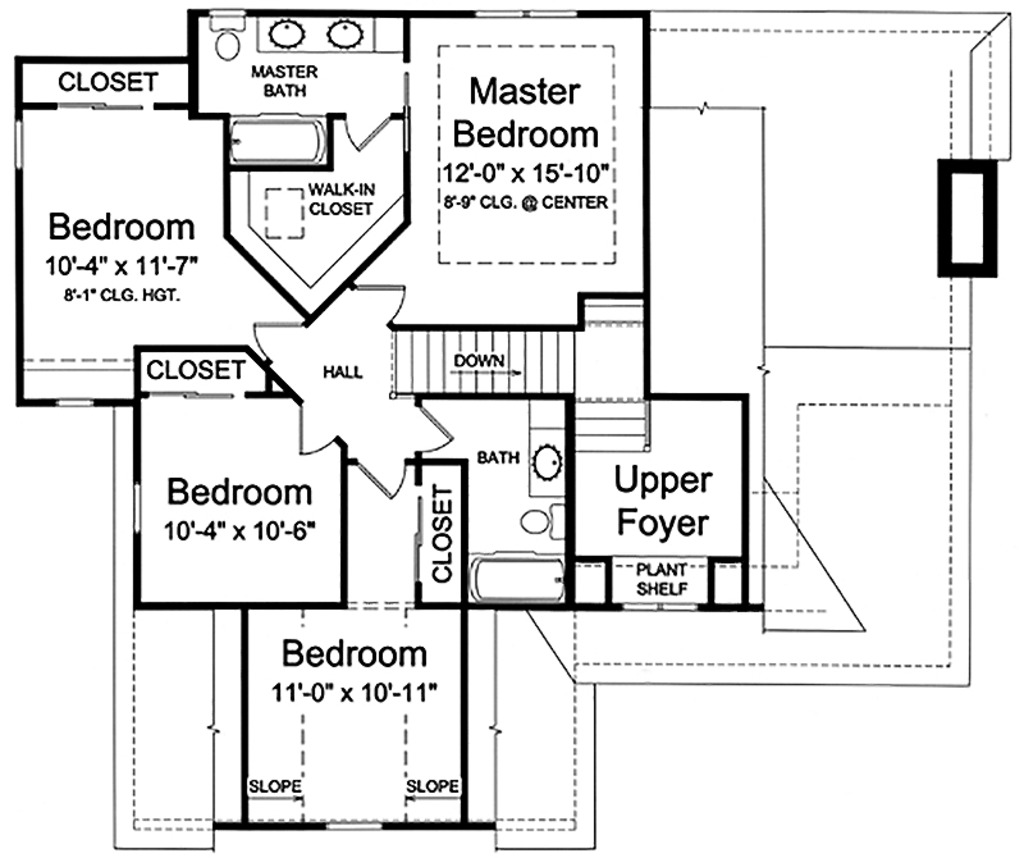door: (231, 304, 312, 366), (277, 398, 336, 458), (353, 451, 411, 502), (343, 111, 399, 163), (404, 403, 459, 455), (355, 286, 411, 322)
large_sink: (517, 499, 568, 551), (209, 7, 251, 68)
small_sink: (256, 18, 368, 51), (520, 438, 569, 495)
stairs: (384, 287, 647, 455)
tub: (227, 108, 325, 166), (465, 550, 565, 606)
window: (468, 7, 573, 22), (55, 394, 105, 414), (11, 122, 31, 170), (131, 480, 148, 530), (323, 818, 379, 826)
